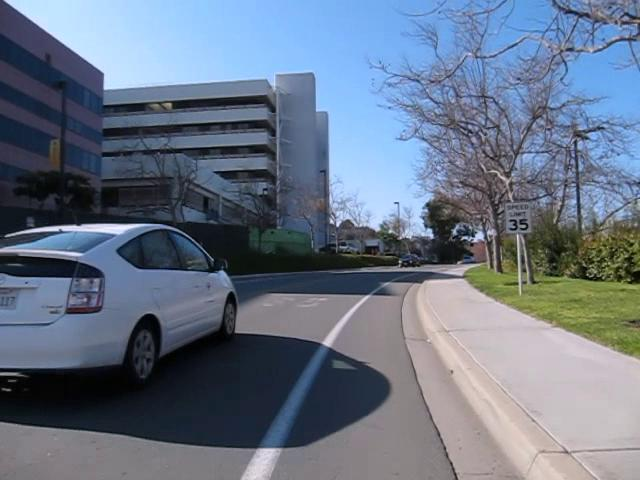speedLimit35: (503, 200, 533, 234)
